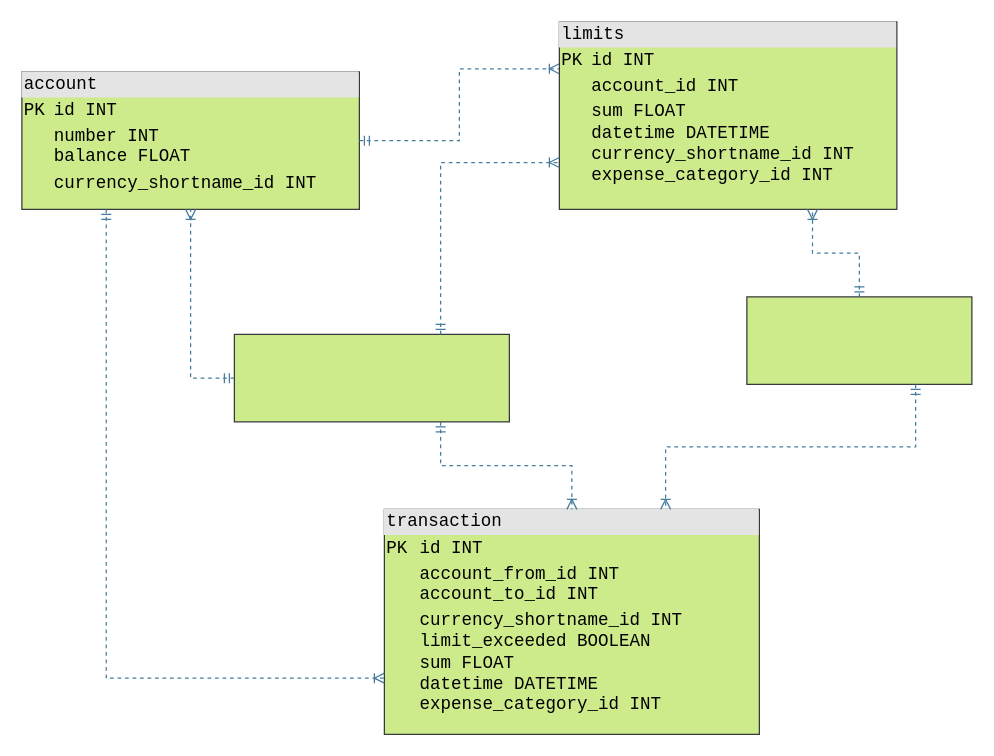
This 994x756 diagram has some shape labels left out. Here are the shapes that lost their labels. From the top down, the box of each, then its label:
(746, 296, 972, 384): expense_category PK id INT name VARCHAR(15)
(233, 333, 509, 422): currency_shortname PK id INT shortname VARCHAR(5)
